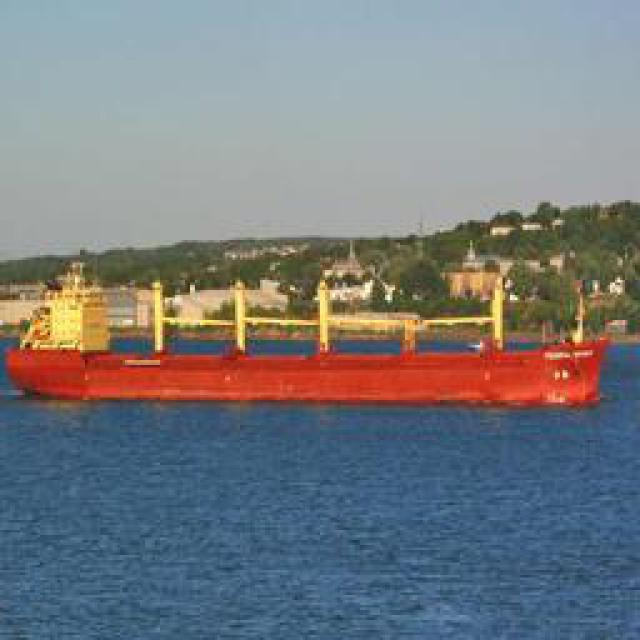Ship: (18, 292, 603, 410)
